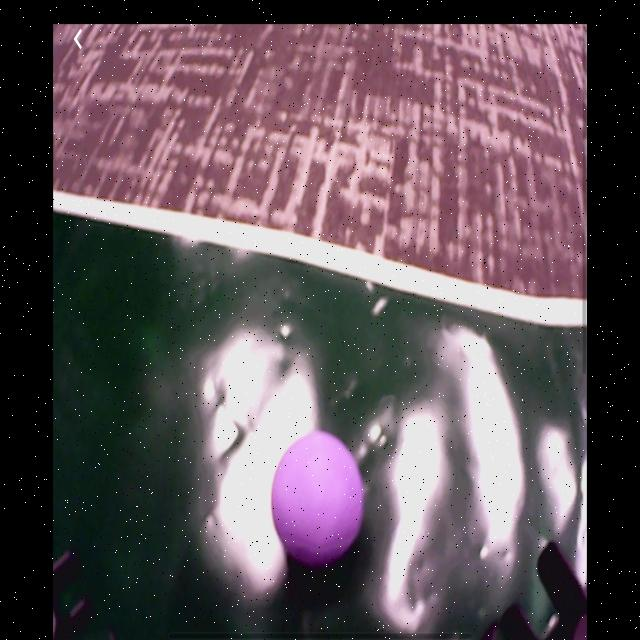ball: (270, 432, 368, 566)
